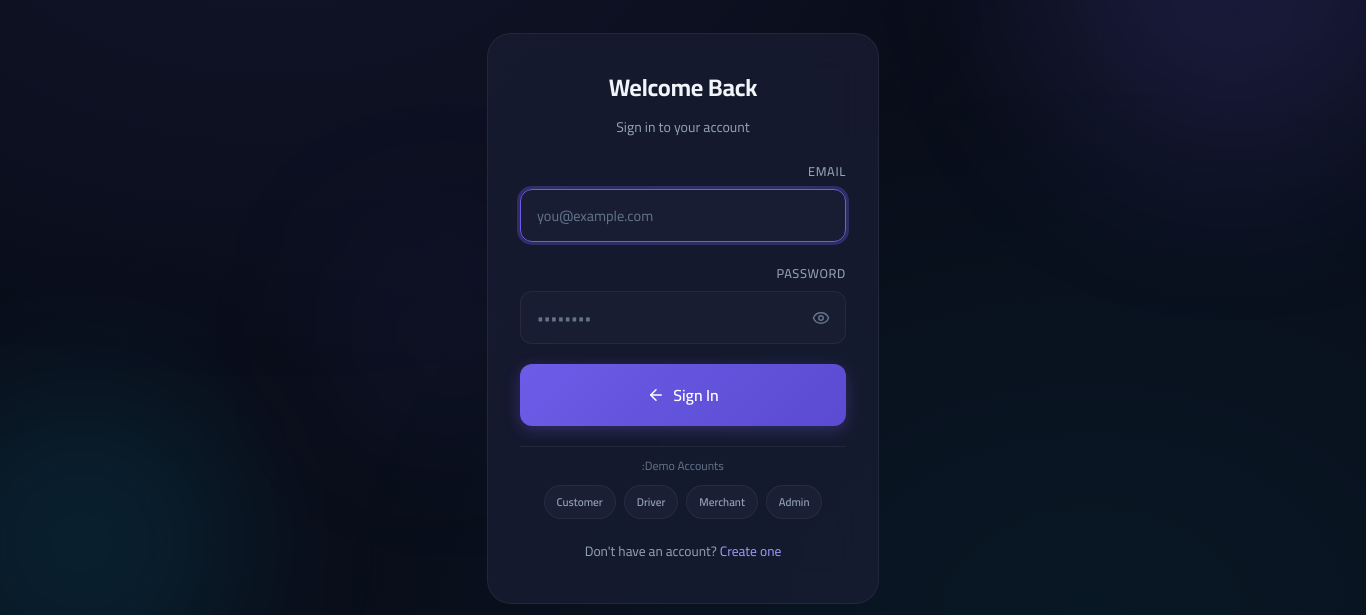
Login with the real AuthContext › submits credentials and preserves camelCase API user names
In the field labelled "Email": (683,216) top-left (520, 189), bottom-right (846, 242), type "customer@example.test"
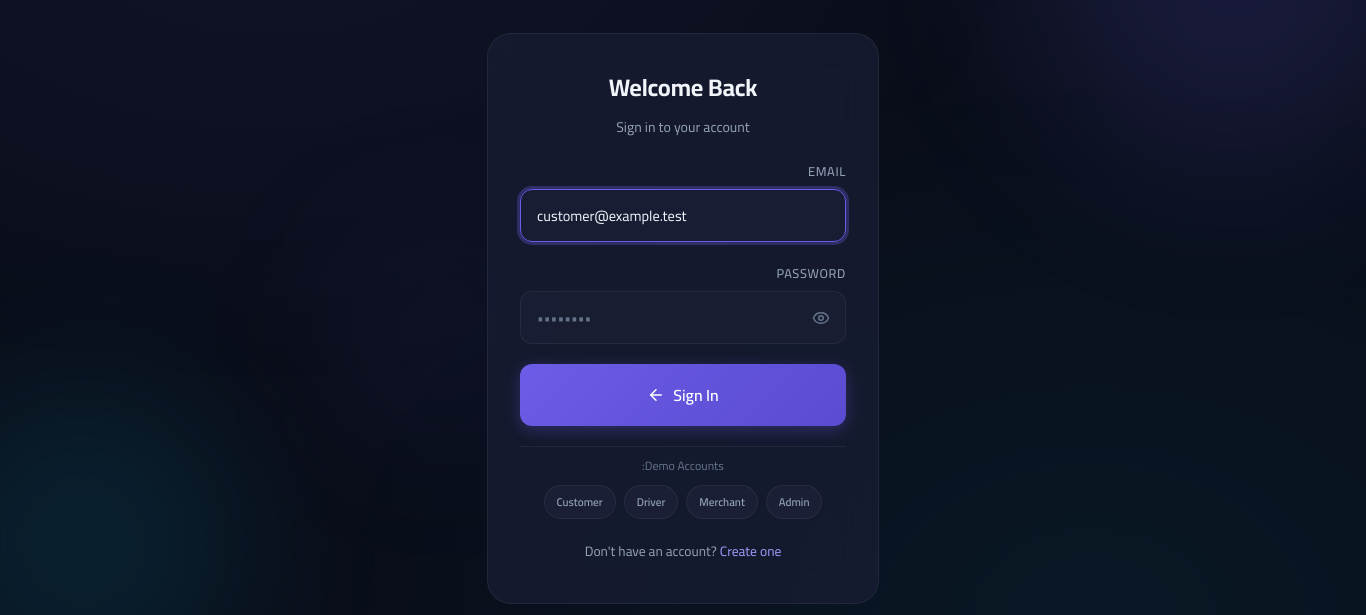
In the password field labelled "Password": (683,318) top-left (520, 291), bottom-right (846, 344), type "Example123!"
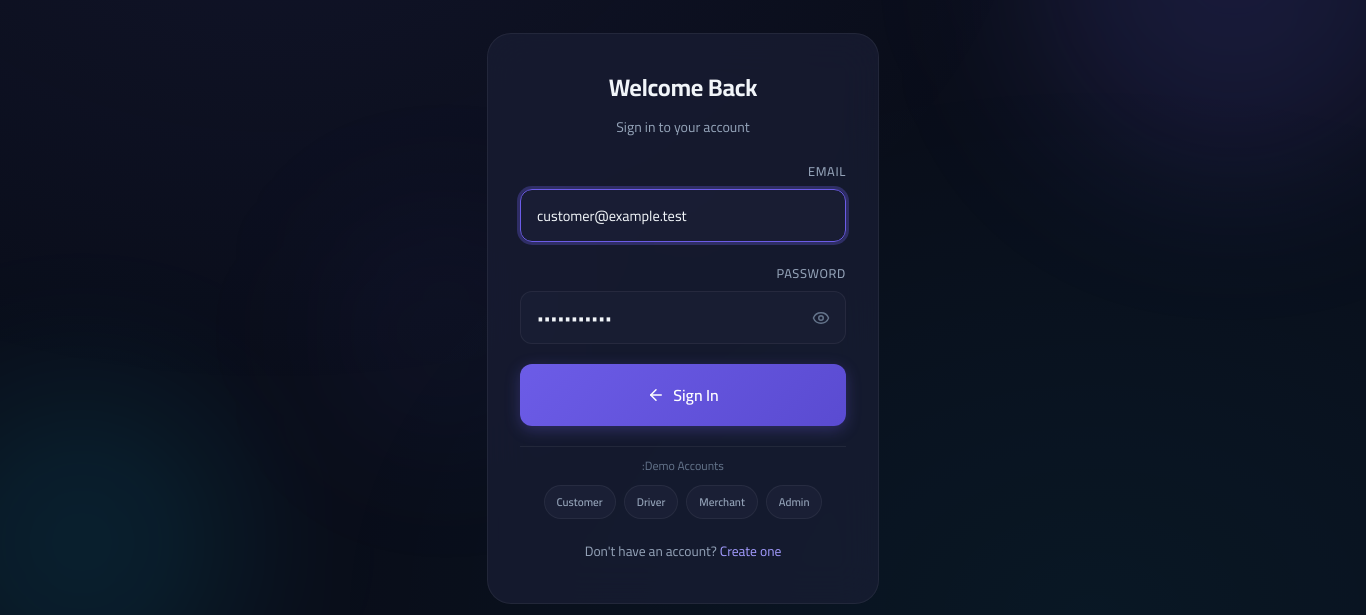
Click the button "Sign In": (683,395) top-left (520, 364), bottom-right (846, 426)
(page scrolled)
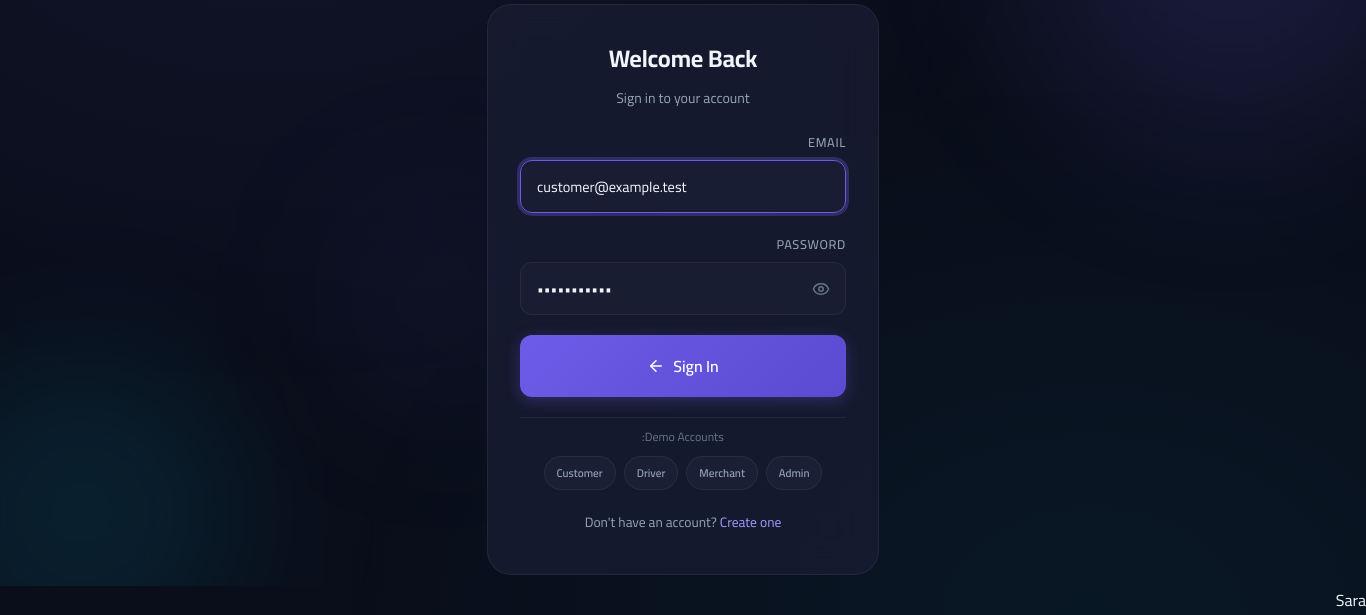
expect the text "Sara" is shown: met, box top-left (1336, 585), bottom-right (1365, 614)
